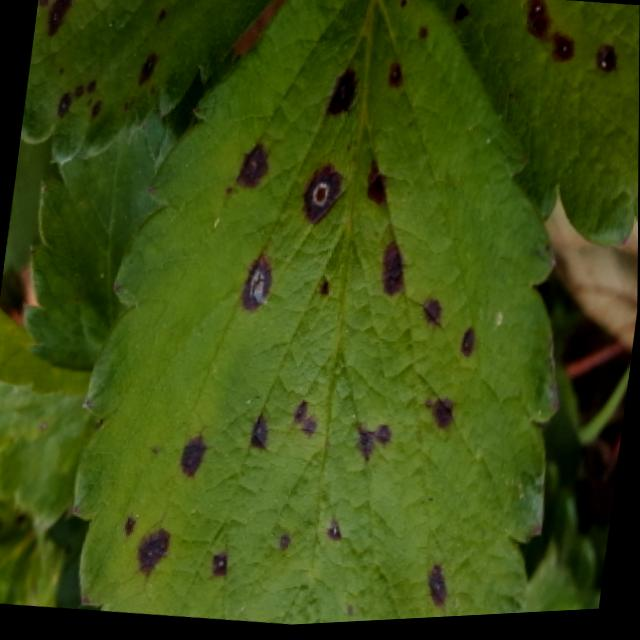Leaf Spot: (62, 0, 562, 628), (432, 0, 640, 254), (19, 0, 271, 163), (2, 137, 61, 275), (0, 535, 40, 606), (0, 498, 34, 543)
